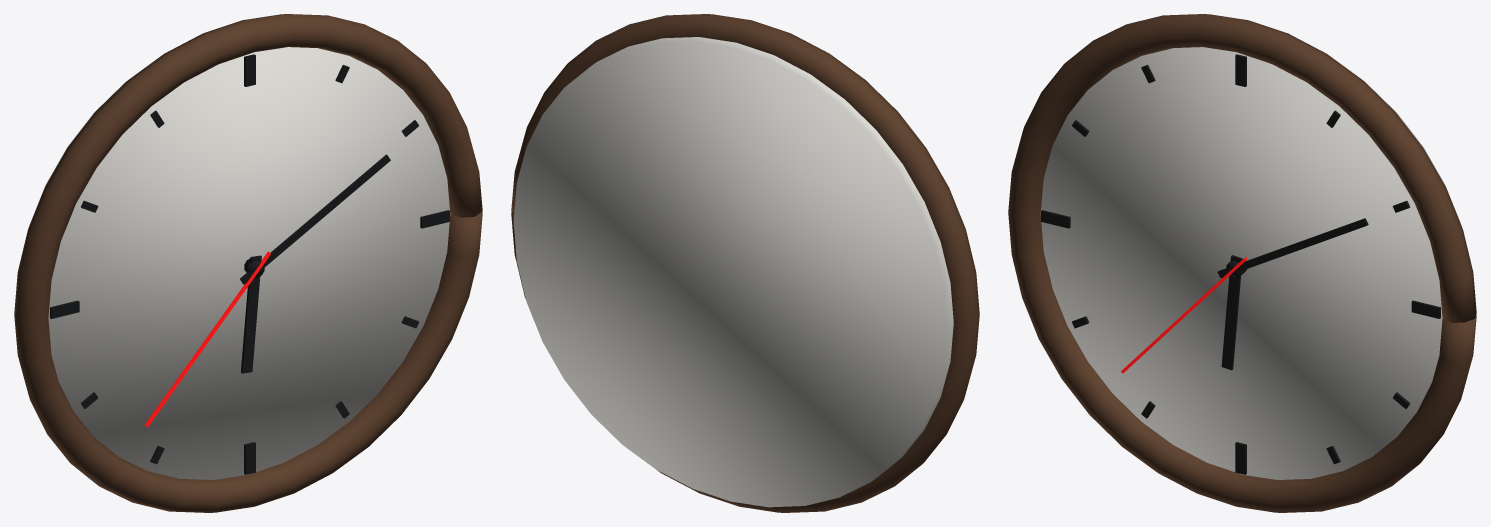
The model's file is relogio_sala.glb.
3 renders of one model, left to right at view 1: azimuth 30°, elevation 25°; view 2: azimuth 150°, elevation 25°; view 3: azimuth 330°, elevation 25°, orthographic.
Parts seen in each view (by area): view 1: Relogio_Sala, Relogio_Sala_Aro, Relogio_Sala_Minuto, Relogio_Sala_Hora, Relogio_Sala_Segundo; view 2: Relogio_Sala, Relogio_Sala_Aro; view 3: Relogio_Sala, Relogio_Sala_Aro, Relogio_Sala_Minuto, Relogio_Sala_Hora, Relogio_Sala_Segundo.
Boxes of the visible parts, box(x1,y1,x2,y2) form: Relogio_Sala: box(29, 47, 450, 479); Relogio_Sala_Aro: box(14, 14, 482, 512); Relogio_Sala_Minuto: box(240, 154, 390, 284); Relogio_Sala_Hora: box(241, 255, 261, 373); Relogio_Sala_Segundo: box(145, 251, 270, 427); Relogio_Sala: box(513, 37, 953, 507); Relogio_Sala_Aro: box(511, 14, 979, 512); Relogio_Sala: box(1040, 47, 1461, 479); Relogio_Sala_Aro: box(1008, 14, 1476, 512); Relogio_Sala_Minuto: box(1217, 218, 1368, 278); Relogio_Sala_Hora: box(1221, 255, 1242, 370); Relogio_Sala_Segundo: box(1121, 257, 1247, 373).
Bounding box in the file's own units: 0.364 × 0.364 × 0.033.
